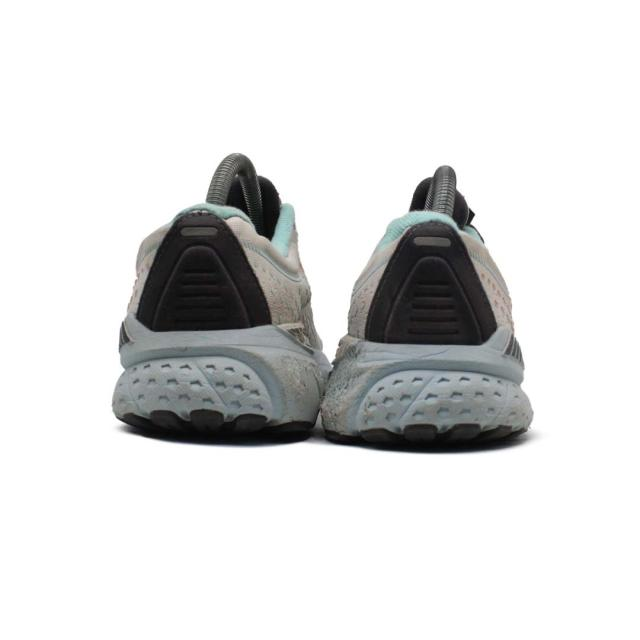heel: (116, 209, 292, 330), (356, 215, 496, 342)
midsole: (319, 327, 534, 444), (105, 325, 318, 427)
